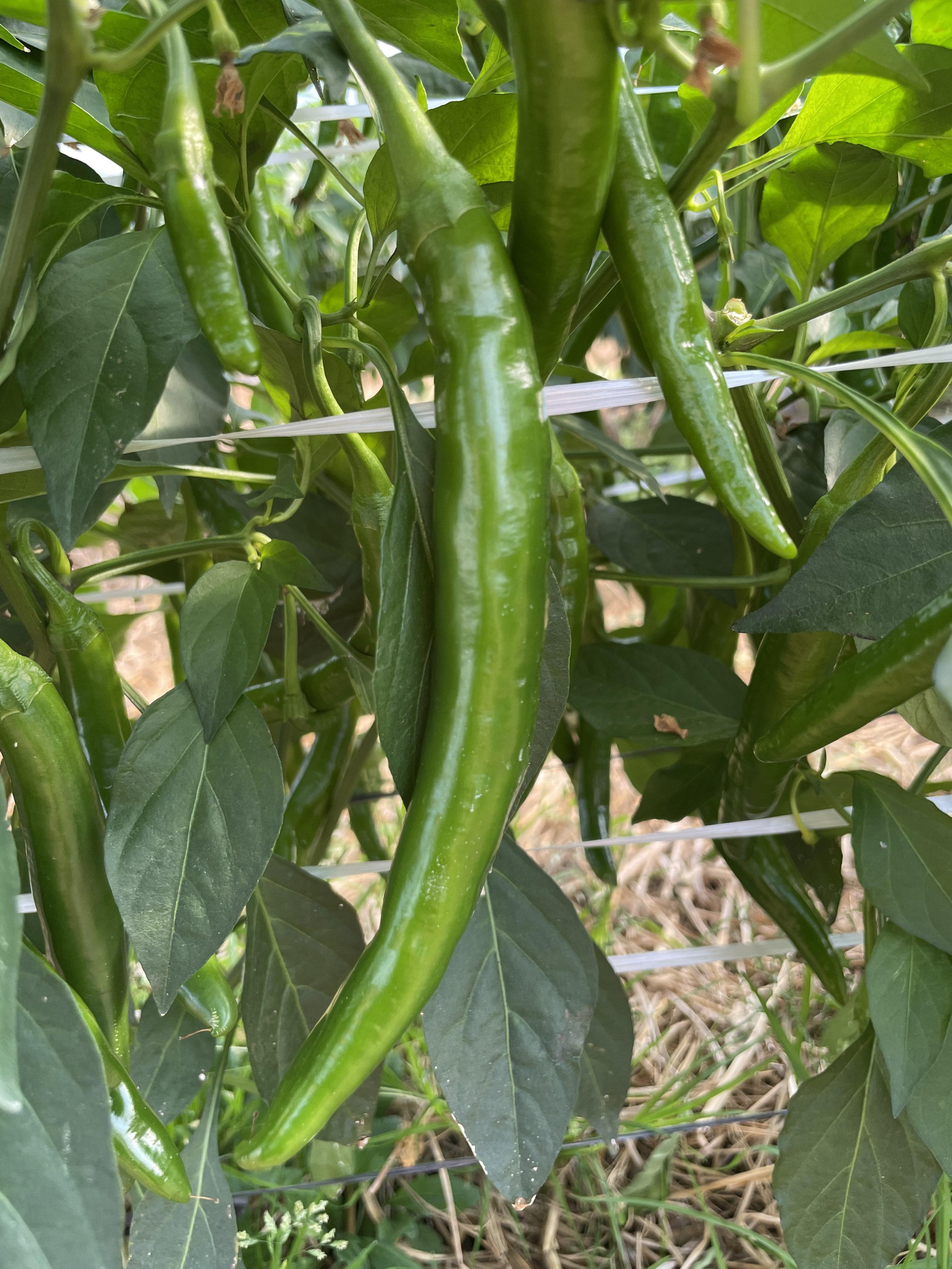Buah Cabai Sehat: (236, 124, 561, 1174), (598, 50, 800, 571), (0, 624, 130, 1079), (153, 107, 257, 376)
Daun Cabai Sehat: (420, 834, 604, 1225), (91, 662, 289, 1017), (7, 213, 198, 566), (772, 1044, 944, 1269)
